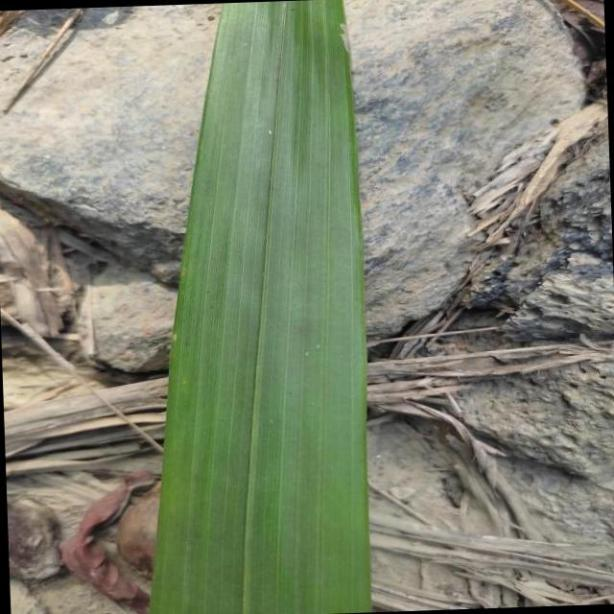Healthy: (149, 5, 368, 614)
